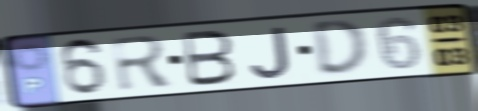6: (57, 36, 113, 100), (373, 14, 424, 73)
B: (180, 29, 238, 89)
D: (309, 17, 372, 78)
J: (248, 24, 294, 81)
R: (107, 33, 178, 94)
